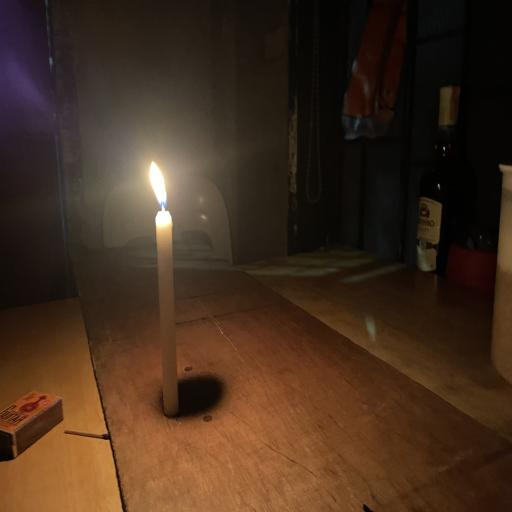fire: (137, 161, 186, 229)
